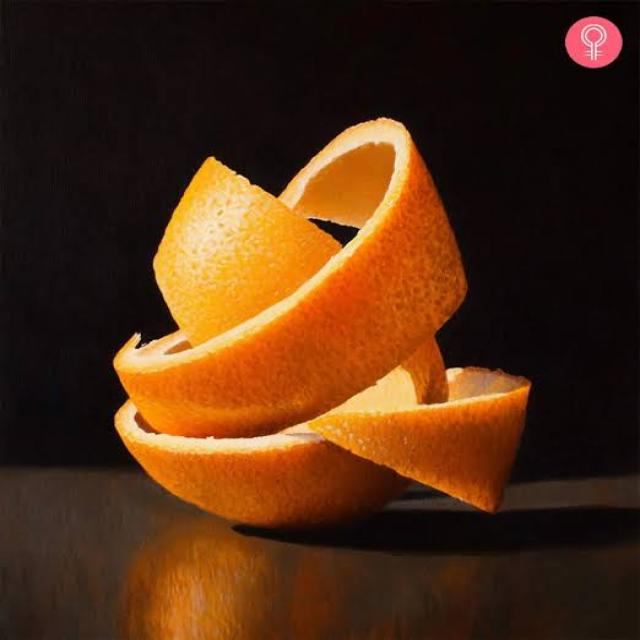food waste: (74, 103, 540, 555)
